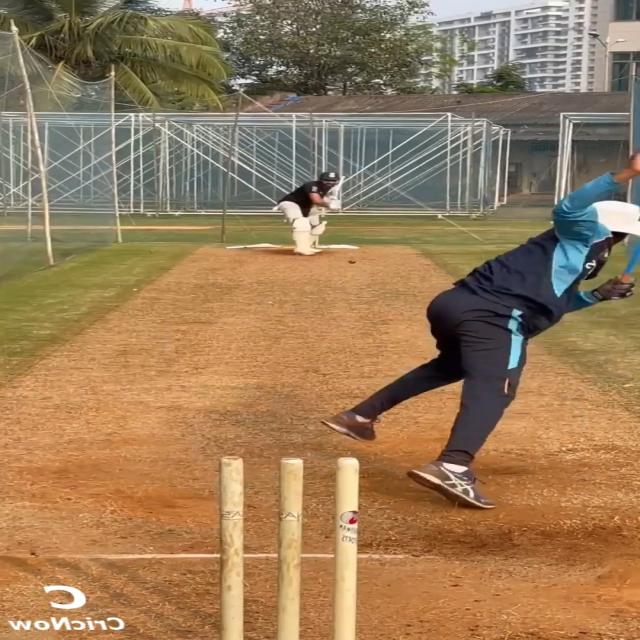ball: (348, 259, 358, 265)
stump: (219, 452, 364, 640)
